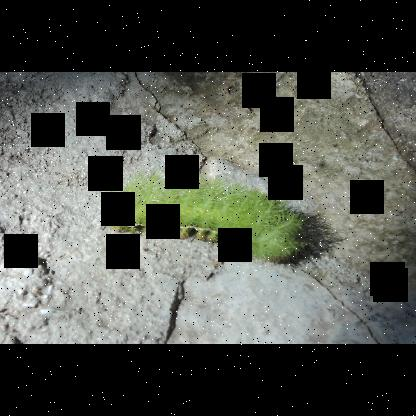oruga: (107, 172, 318, 264)
